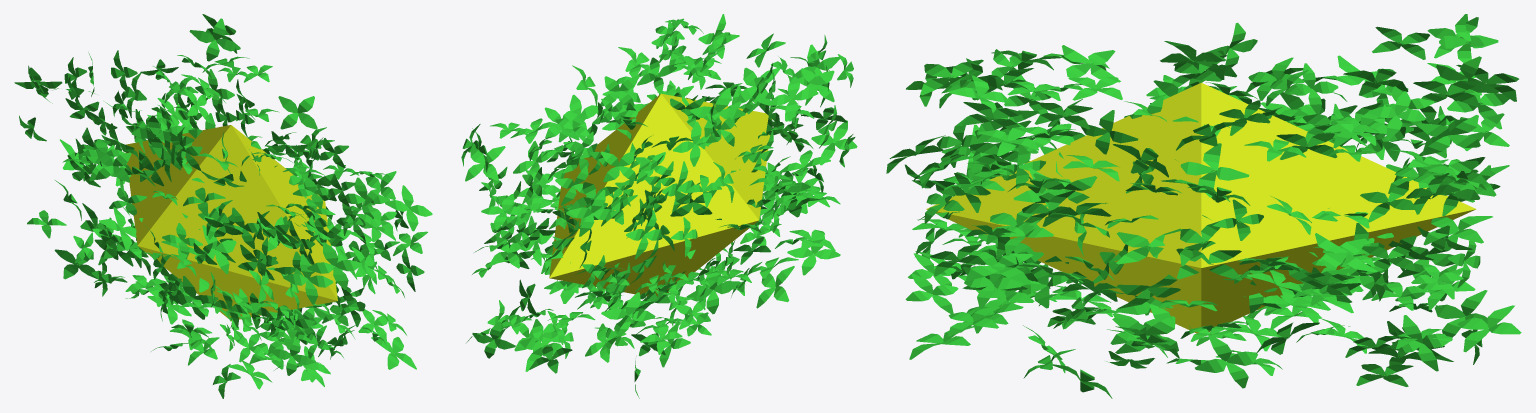
The model's file is TESTbush.fbx.
3 views of the same model, side by side, from view 1: azimuth 30°, elevation 25°; view 2: azimuth 150°, elevation 25°; view 3: azimuth 270°, elevation 25° (orthographic). The views are drawn at different scales.
Visible parts, largest first — view 1: bush.001, bush.001|leaf|Dupli|85, bush.001|leaf|Dupli|146, bush.001|leaf|Dupli|312, bush.001|leaf|Dupli|160, bush.001|leaf|Dupli|272, bush.001|leaf|Dupli|175, bush.001|leaf|Dupli|212, bush.001|leaf|Dupli|99, bush.001|leaf|Dupli|45, bush.001|leaf|Dupli|221, bush.001|leaf|Dupli|111 (+38 smaller); view 2: bush.001, bush.001|leaf|Dupli|138, bush.001|leaf|Dupli|167, bush.001|leaf|Dupli|223, bush.001|leaf|Dupli|117, bush.001|leaf|Dupli|216, bush.001|leaf|Dupli|31, bush.001|leaf|Dupli|186, bush.001|leaf|Dupli|171, bush.001|leaf|Dupli|149, bush.001|leaf|Dupli|184, bush.001|leaf|Dupli|71 (+48 smaller); view 3: bush.001, bush.001|leaf|Dupli|141, bush.001|leaf|Dupli|80, bush.001|leaf|Dupli|227, bush.001|leaf|Dupli|105, bush.001|leaf|Dupli|67, bush.001|leaf|Dupli|56, bush.001|leaf|Dupli|154, bush.001|leaf|Dupli|188, bush.001|leaf|Dupli|91, bush.001|leaf|Dupli|17, bush.001|leaf|Dupli|103 (+75 smaller).
Part boxes in pixels (x1=…): bush.001: x1=125, y1=125, x2=337, y2=320; bush.001|leaf|Dupli|85: x1=307, y1=242, x2=362, y2=289; bush.001|leaf|Dupli|146: x1=283, y1=254, x2=333, y2=304; bush.001|leaf|Dupli|312: x1=189, y1=18, x2=240, y2=61; bush.001|leaf|Dupli|160: x1=278, y1=96, x2=317, y2=129; bush.001|leaf|Dupli|272: x1=385, y1=185, x2=432, y2=231; bush.001|leaf|Dupli|175: x1=95, y1=149, x2=131, y2=182; bush.001|leaf|Dupli|212: x1=131, y1=115, x2=180, y2=157; bush.001|leaf|Dupli|99: x1=194, y1=225, x2=236, y2=274; bush.001|leaf|Dupli|45: x1=269, y1=336, x2=314, y2=375; bush.001|leaf|Dupli|221: x1=371, y1=337, x2=416, y2=369; bush.001|leaf|Dupli|111: x1=169, y1=276, x2=218, y2=319; bush.001: x1=549, y1=93, x2=772, y2=296; bush.001|leaf|Dupli|138: x1=690, y1=88, x2=745, y2=137; bush.001|leaf|Dupli|167: x1=767, y1=76, x2=818, y2=121; bush.001|leaf|Dupli|223: x1=569, y1=190, x2=614, y2=236; bush.001|leaf|Dupli|117: x1=601, y1=292, x2=655, y2=336; bush.001|leaf|Dupli|216: x1=686, y1=266, x2=739, y2=314; bush.001|leaf|Dupli|31: x1=465, y1=146, x2=505, y2=181; bush.001|leaf|Dupli|186: x1=811, y1=120, x2=857, y2=165; bush.001|leaf|Dupli|171: x1=756, y1=266, x2=794, y2=308; bush.001|leaf|Dupli|149: x1=787, y1=235, x2=840, y2=275; bush.001|leaf|Dupli|184: x1=736, y1=67, x2=780, y2=105; bush.001|leaf|Dupli|71: x1=600, y1=151, x2=637, y2=182; bush.001: x1=926, y1=82, x2=1476, y2=333; bush.001|leaf|Dupli|141: x1=1195, y1=335, x2=1257, y2=388; bush.001|leaf|Dupli|80: x1=1417, y1=115, x2=1480, y2=155; bush.001|leaf|Dupli|227: x1=1180, y1=143, x2=1249, y2=197; bush.001|leaf|Dupli|105: x1=1457, y1=305, x2=1521, y2=352; bush.001|leaf|Dupli|67: x1=1390, y1=315, x2=1452, y2=371; bush.001|leaf|Dupli|56: x1=966, y1=250, x2=1032, y2=284; bush.001|leaf|Dupli|154: x1=1315, y1=233, x2=1377, y2=272; bush.001|leaf|Dupli|188: x1=1112, y1=316, x2=1178, y2=353; bush.001|leaf|Dupli|91: x1=1062, y1=45, x2=1120, y2=82; bush.001|leaf|Dupli|17: x1=1434, y1=290, x2=1496, y2=337; bush.001|leaf|Dupli|103: x1=1368, y1=91, x2=1425, y2=140.
Size of the model in its own units: 97.81 by 96.48 by 187.
